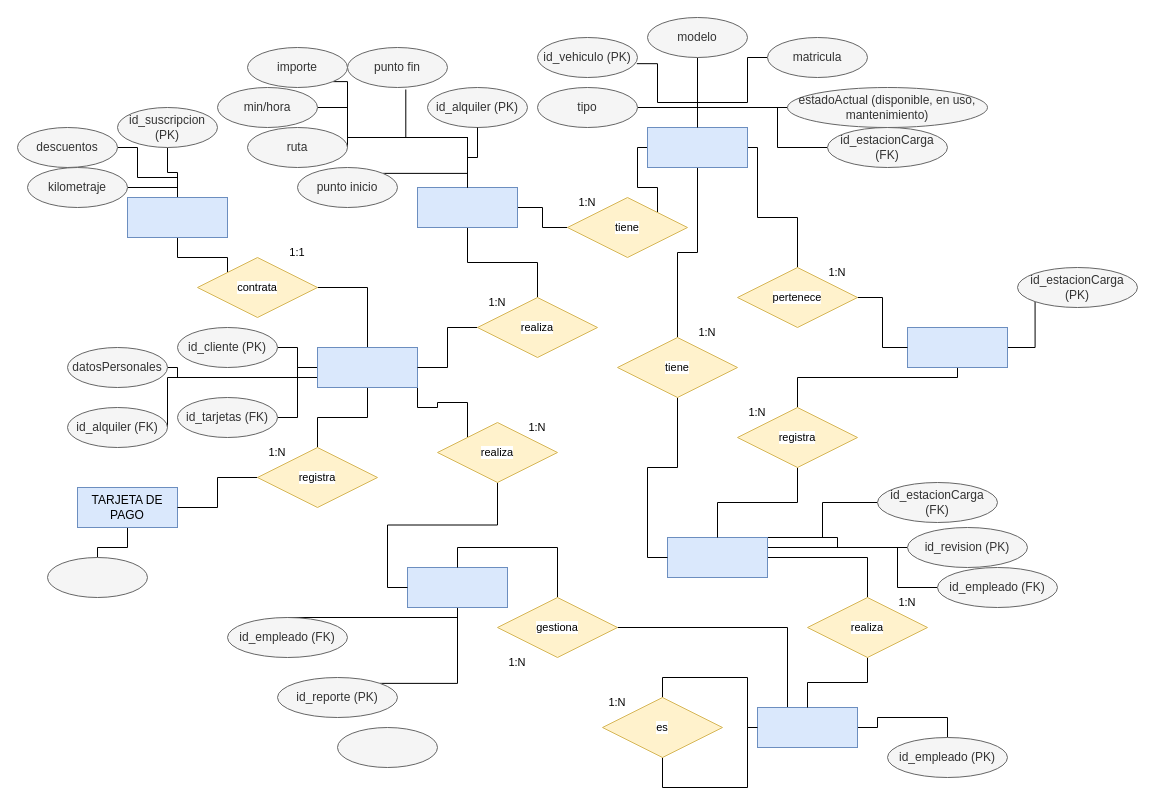
The diagram is 1155 pixels wide and 806 high, and some of its shapes have lost their labels. Here are the shapes that lost their labels. From the top down, the centre of each, then its label:
At pixel 697 147: "VEHICULO".
At pixel 177 217: "SUSCRIPCION MENSUALES".
At pixel 467 207: "ALQUILER".
At pixel 367 367: "CLIENTE".
At pixel 957 347: "ESTACION DE CARGA".
At pixel 97 577: "id_tarjetas (PK)".
At pixel 717 557: "REVISION TECNICA".
At pixel 457 587: "REPORTE INCIDENCIA".
At pixel 387 747: "id_cliente (FK)".
At pixel 807 727: "EMPLEADO".
